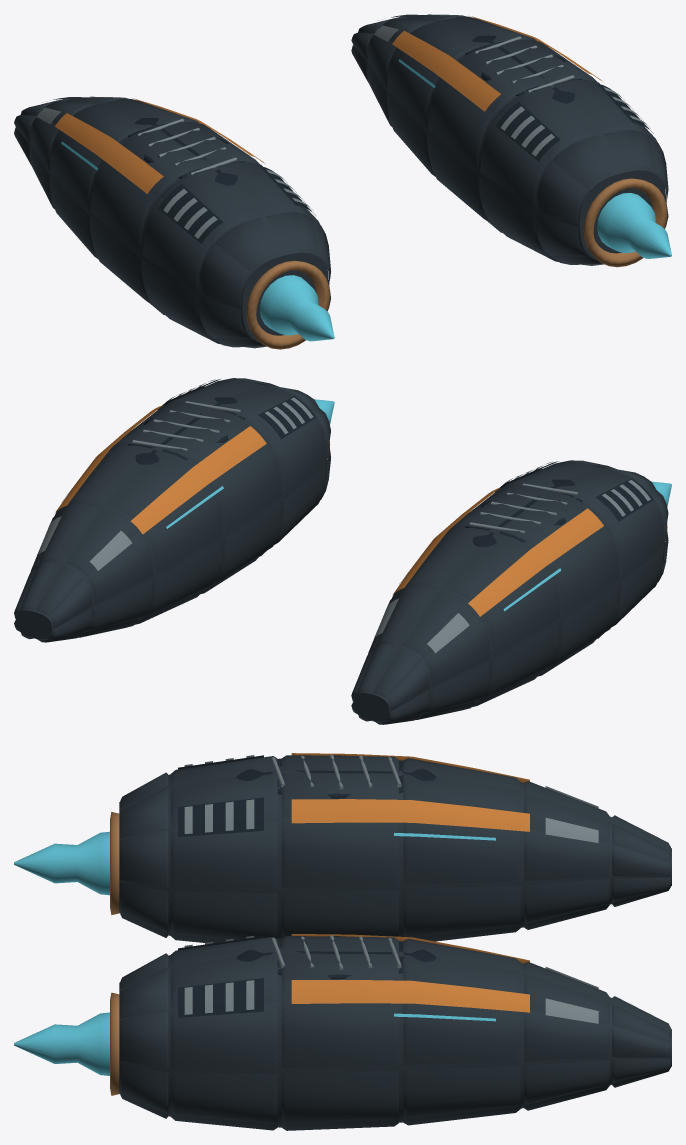
Rendered from heavy_armor.glb.
3 views of the same model, one above another, from view 1: azimuth 30°, elevation 25°; view 2: azimuth 150°, elevation 25°; view 3: azimuth 270°, elevation 25° (orthographic). The views are drawn at different scales.
Visible parts, largest first — view 1: heavy_armor; view 2: heavy_armor; view 3: heavy_armor.
Boxes of the visible parts, <box> form: heavy_armor: <box>14,14,671,349</box>; heavy_armor: <box>14,378,671,724</box>; heavy_armor: <box>14,753,671,1130</box>.
Size of the model in its own units: 3.7 by 1.11 by 4.
